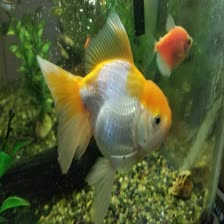Cuezo: (26, 18, 171, 207)
Plano: (137, 20, 197, 74)
